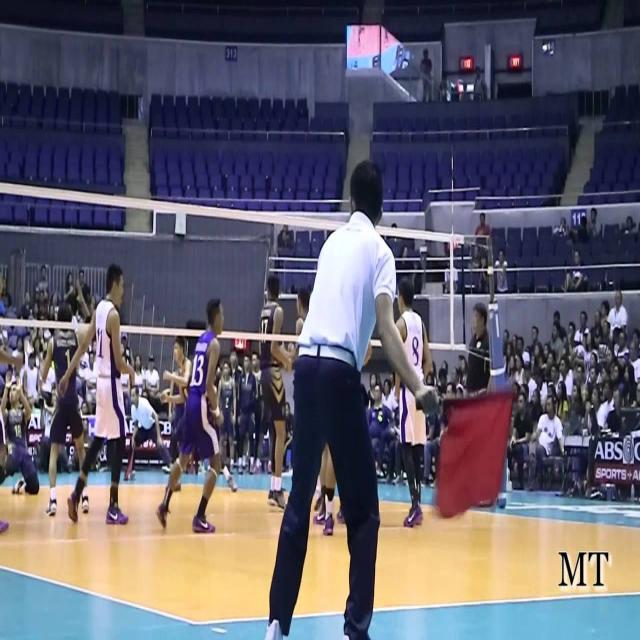body: (264, 158, 446, 640), (57, 263, 135, 528), (154, 294, 224, 534), (37, 278, 91, 518), (158, 332, 238, 493), (502, 313, 640, 402), (390, 274, 436, 529), (258, 272, 292, 512), (0, 370, 40, 497), (125, 384, 173, 480), (421, 381, 458, 486), (0, 259, 36, 366), (529, 393, 567, 493), (39, 382, 73, 474), (236, 348, 258, 476), (315, 435, 341, 537), (465, 301, 492, 399), (507, 389, 533, 490), (224, 343, 244, 466), (216, 358, 237, 475), (248, 348, 264, 477), (0, 397, 12, 539), (431, 349, 466, 393), (366, 382, 394, 431), (558, 248, 586, 296), (587, 386, 603, 468), (37, 327, 55, 398), (607, 288, 629, 343), (602, 387, 626, 437), (24, 351, 42, 412), (280, 401, 294, 474), (466, 243, 482, 305), (144, 354, 162, 409), (294, 283, 312, 337), (437, 71, 470, 100), (600, 380, 616, 431), (570, 382, 584, 440), (550, 212, 570, 252), (276, 218, 296, 258), (84, 350, 98, 407), (418, 48, 432, 103), (381, 378, 398, 422), (472, 64, 486, 117), (474, 212, 491, 254), (120, 330, 134, 380), (549, 320, 564, 366), (494, 247, 508, 294), (574, 310, 590, 348), (477, 252, 491, 295), (598, 298, 610, 348), (555, 380, 569, 422), (367, 369, 379, 412), (388, 220, 409, 244), (63, 270, 76, 308), (38, 264, 50, 305), (586, 206, 602, 236), (444, 260, 458, 294), (132, 353, 146, 387), (78, 268, 90, 306), (78, 337, 94, 363), (388, 370, 398, 402), (624, 214, 638, 235)
